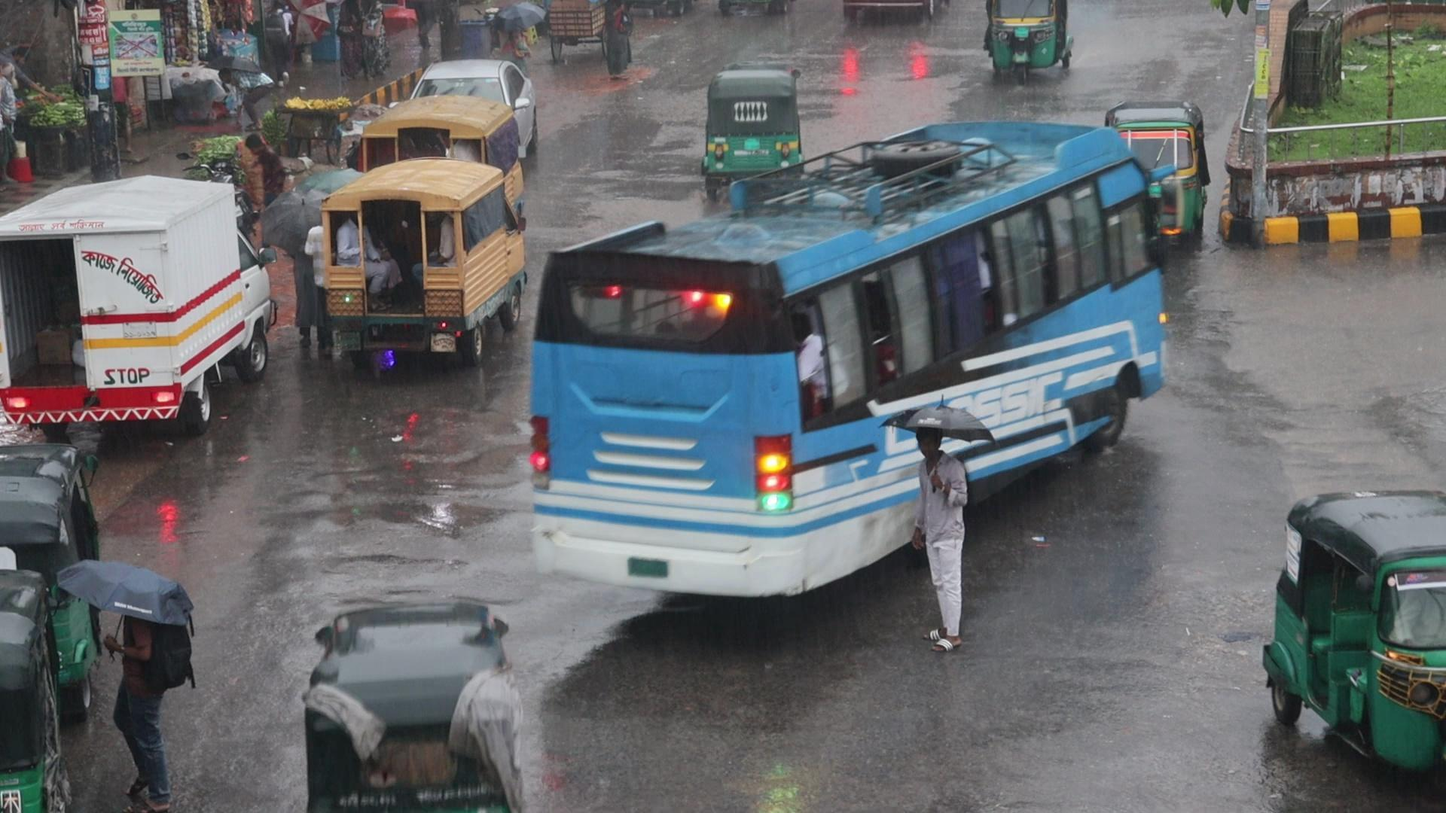Bus: (530, 115, 1170, 599)
Truck: (319, 155, 526, 361)
